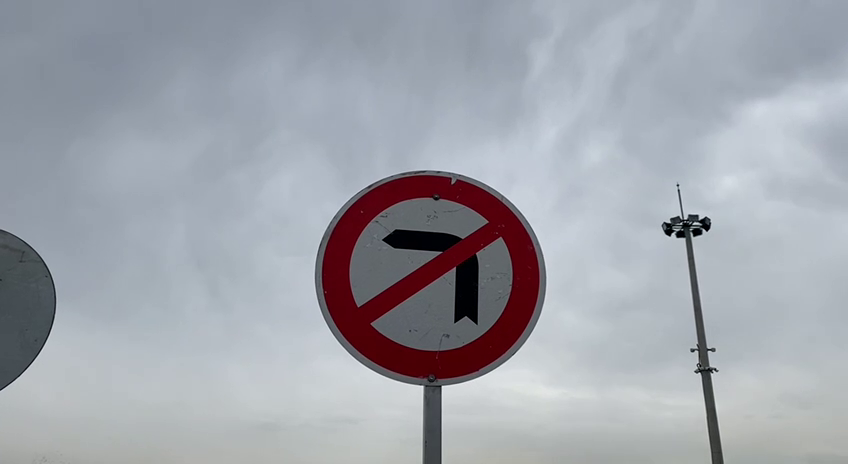noTurnLeft: (313, 168, 548, 390)
